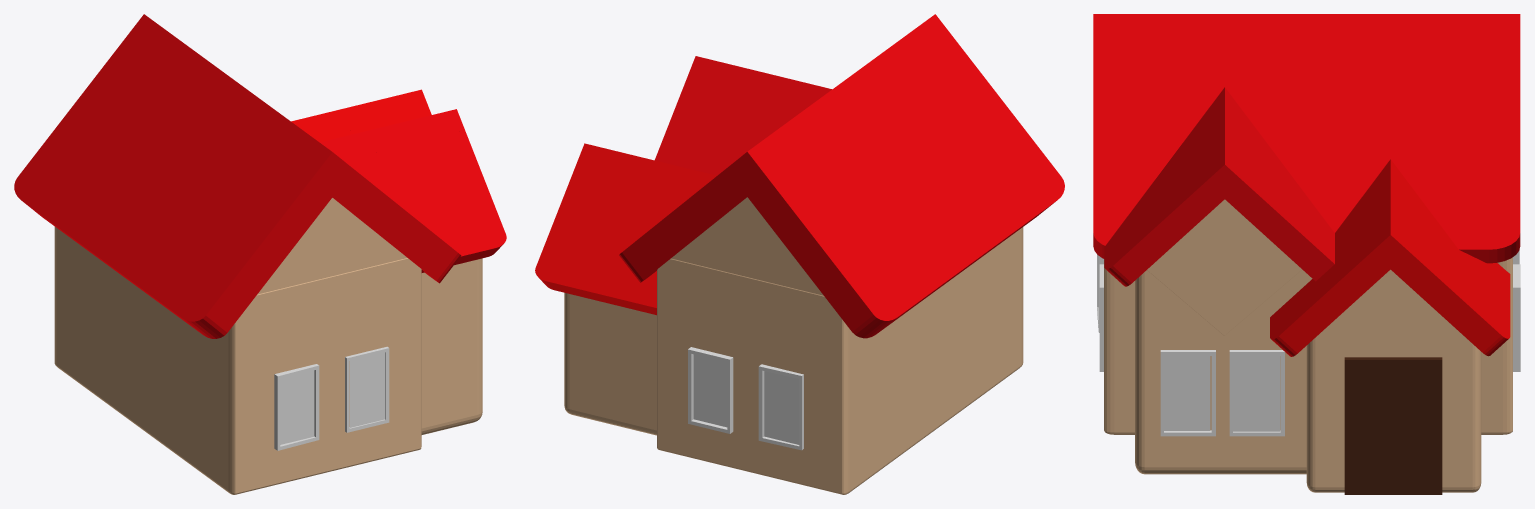
The model's file is red wala ghar.fbx.
The picture shows the model from 3 angles, left to right: view 1: azimuth 30°, elevation 25°; view 2: azimuth 150°, elevation 25°; view 3: azimuth 270°, elevation 25°; orthographic projection. The views are drawn at different scales.
Parts seen in each view (by area): view 1: Cube.003, Cube.005, Cube.004, Cube.002, Cube.006, Plane.011, Plane.012, Cube.046, Cube.047; view 2: Cube.003, Cube.005, Cube.006, Cube.004, Cube.001, Plane.010, Plane.009, Cube.049, Cube.048; view 3: Cube.003, Cube.002, Cube.006, Cube.004, Cube.001, Cube, Cube.005, Plane.013, Plane.014, Cube.030, Cube.040, Cube.049 (+1 smaller).
Part boxes in pixels (<box>): Cube.003: <box>14,14,461,338</box>; Cube.005: <box>54,198,421,494</box>; Cube.004: <box>320,109,506,272</box>; Cube.002: <box>421,258,482,434</box>; Cube.006: <box>291,89,431,142</box>; Plane.011: <box>350,352,385,427</box>; Plane.012: <box>280,370,314,444</box>; Cube.046: <box>274,364,319,450</box>; Cube.047: <box>345,346,389,432</box>; Cube.003: <box>619,14,1064,338</box>; Cube.005: <box>657,197,1023,494</box>; Cube.006: <box>535,143,716,315</box>; Cube.004: <box>654,56,831,175</box>; Cube.001: <box>564,292,656,435</box>; Plane.010: <box>764,371,799,444</box>; Plane.009: <box>693,354,727,427</box>; Cube.049: <box>688,347,733,433</box>; Cube.048: <box>758,364,803,450</box>; Cube.003: <box>1093,14,1520,263</box>; Cube.002: <box>1135,199,1312,474</box>; Cube.006: <box>1270,159,1510,356</box>; Cube.004: <box>1104,87,1334,286</box>; Cube.001: <box>1306,269,1481,492</box>; Cube: <box>1344,357,1442,494</box>; Cube.005: <box>1104,257,1512,434</box>; Plane.013: <box>1233,356,1280,431</box>; Plane.014: <box>1164,356,1210,430</box>; Cube.030: <box>1160,350,1215,436</box>; Cube.040: <box>1229,350,1284,436</box>; Cube.049: <box>1513,264,1520,371</box>.
Bounding box in the file's own units: 677 × 592 × 620.
